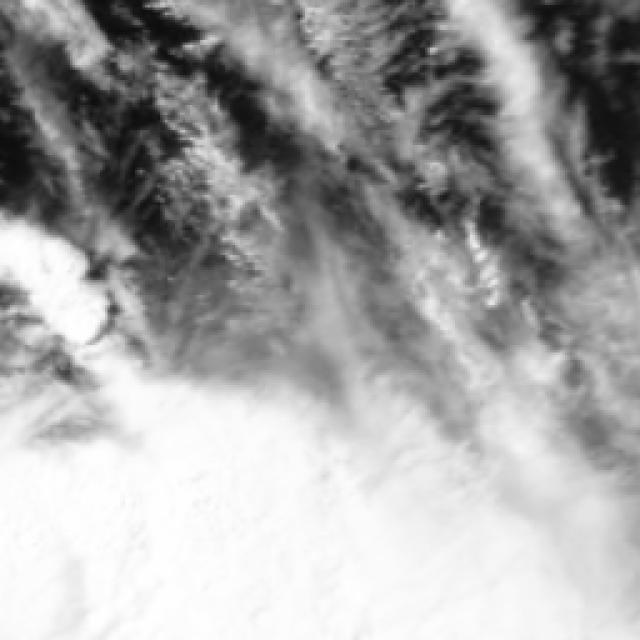CB: (21, 447, 472, 640)
